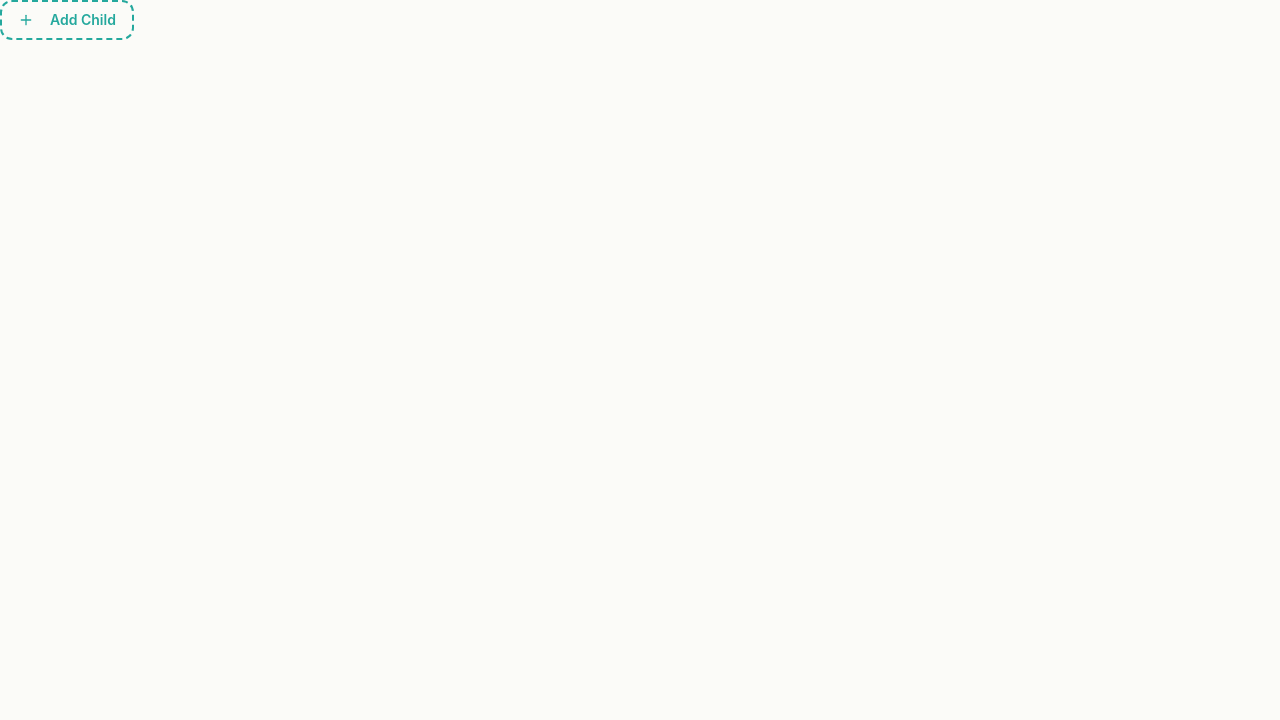
Test: AddChildDialog › opens the dialog when trigger button is clicked
Click the button "Add Child". click: (67, 20)
box: [0, 0, 134, 40]
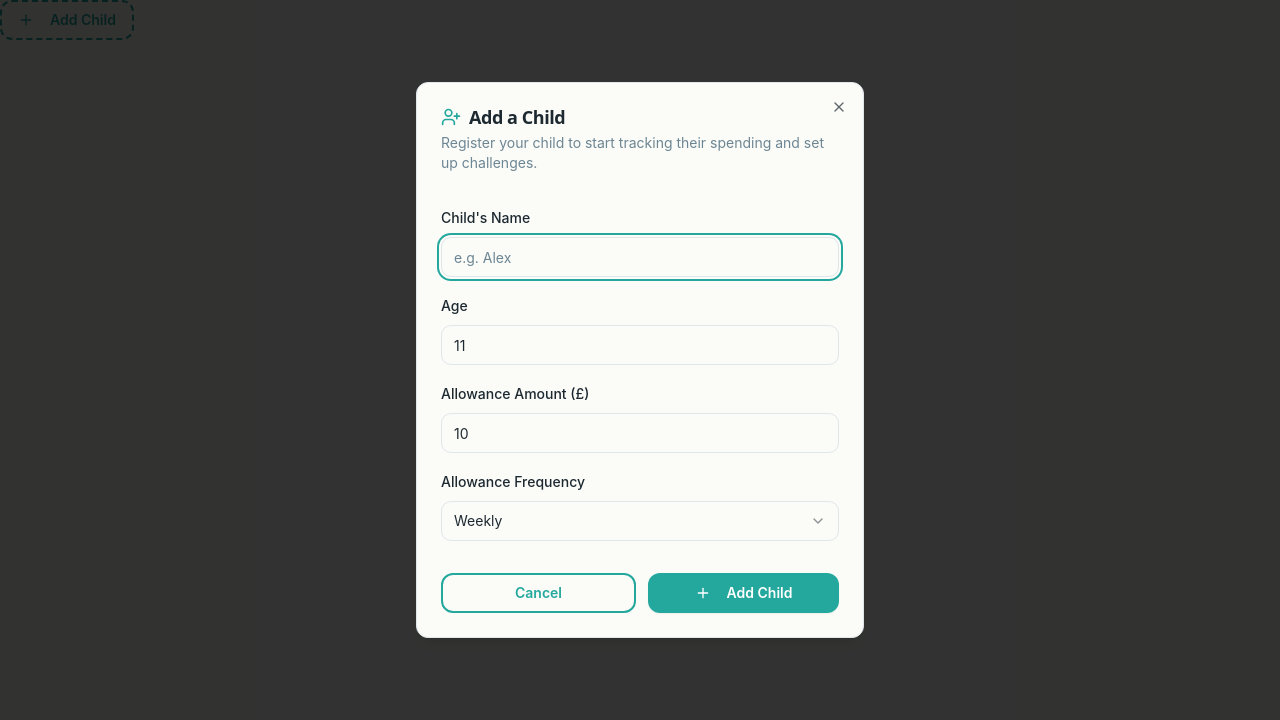
Check: the heading "Add a Child" is shown, box [441, 105, 565, 129]
Check: the text "Register your child to start tracking their spending and set up challenges." is shown, box [441, 133, 839, 173]
